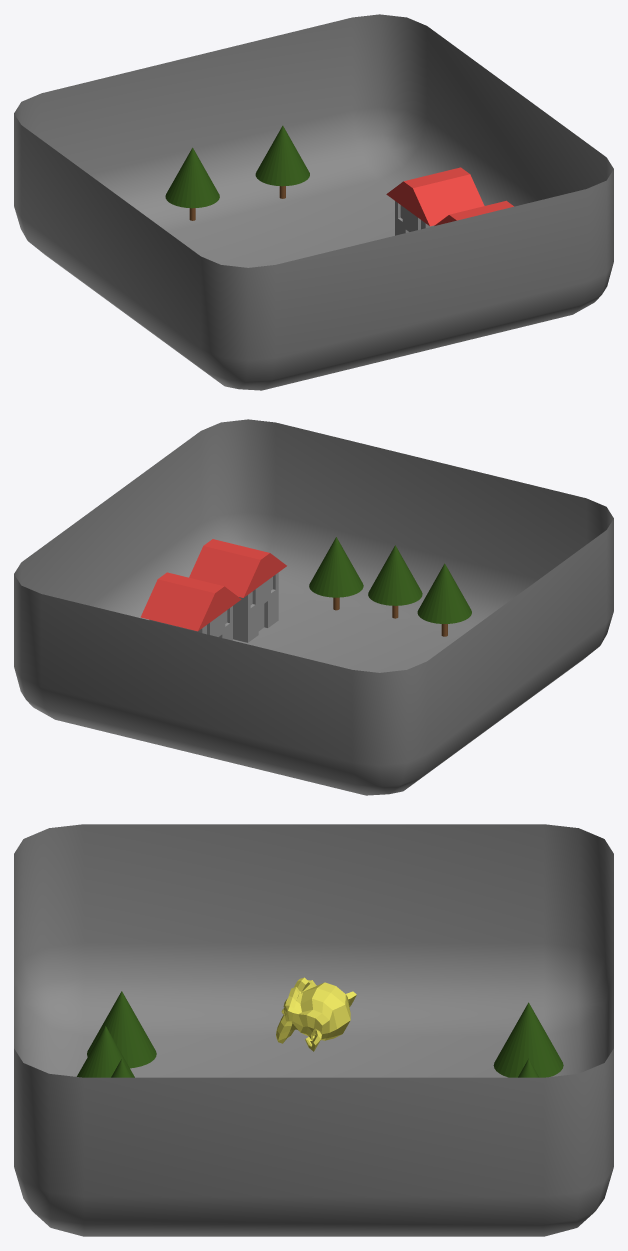
The model's file is neww.glb.
The picture shows the model from 3 angles, top to bottom: view 1: azimuth 30°, elevation 25°; view 2: azimuth 150°, elevation 25°; view 3: azimuth 270°, elevation 25°; orthographic projection. The views are drawn at different scales.
Parts seen in each view (by area): view 1: Plane, Cube.001, Cylinder.004, Cylinder.003, Cube, Cube.003; view 2: Plane, Cube.001, Cube.003, Cube.002, Cylinder.002, Cylinder.001, Cylinder, Cube; view 3: Plane, Suzanne, Cylinder.004, Cylinder, Cylinder.001.
Boxes of the visible parts, x1,y1,x2,y2 form: Plane: (14,14,613,390); Cube.001: (386,167,484,226); Cylinder.004: (165,147,219,220); Cylinder.003: (255,125,309,198); Cube: (395,201,434,235); Cube.003: (434,200,513,225); Plane: (14,419,613,795); Cube.001: (140,572,241,631); Cube.003: (189,539,286,597); Cube.002: (233,572,278,642); Cylinder.002: (309,537,363,610); Cylinder.001: (368,545,422,618); Cylinder: (417,563,471,636); Cube: (149,606,232,640); Plane: (14,824,613,1236); Suzanne: (276,977,356,1051); Cylinder.004: (493,1002,563,1077); Cylinder: (87,991,156,1068); Cylinder.001: (76,1026,134,1077).
Bounding box in the file's own units: 15.29 × 5.14 × 15.29.
